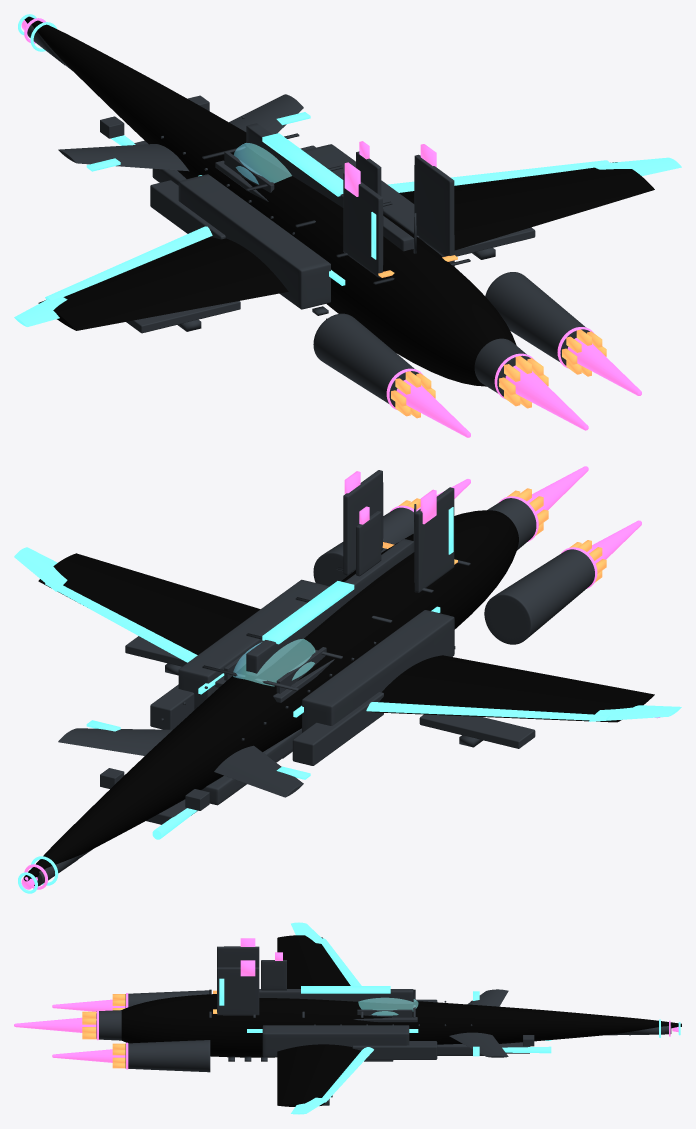
File: interceptor-v2.glb
3 views of the same model, one above another, from view 1: azimuth 30°, elevation 25°; view 2: azimuth 150°, elevation 25°; view 3: azimuth 270°, elevation 25° (orthographic). The views are drawn at different scales.
Visible parts, largest first — view 1: Fuselage, Wing_-1, Wing_1, Cheek_-1, 1_Cowling, 0_Cowling, Stab_1, Stab_-1, Canard_-1, Spine, Cheek_1, WingLE_-1 (+15 smaller); view 2: Fuselage, Wing_-1, Wing_1, Cheek_-1, 1_Cowling, Cheek_1, Stab_-1, Spine, CheekLow_-1, Canard_-1, Rail_-1, Stab_1 (+16 smaller); view 3: Fuselage, Wing_1, Cheek_1, Wing_-1, 0_Cowling, Stab_1, Spine, CheekLow_1, Stab_-1, Canard_1, SensorFin, Canopy (+12 smaller).
Boxes of the visible parts, x1,y1,x2,y2 form: Fuselage: [24, 16, 516, 386]; Wing_-1: [38, 237, 288, 330]; Wing_1: [399, 162, 654, 250]; Cheek_-1: [178, 174, 330, 309]; 1_Cowling: [313, 313, 418, 406]; 0_Cowling: [485, 272, 589, 365]; Stab_1: [414, 154, 454, 256]; Stab_-1: [343, 173, 383, 277]; Canard_-1: [58, 144, 189, 171]; Spine: [246, 123, 413, 251]; Cheek_1: [304, 144, 454, 266]; WingLE_-1: [45, 226, 212, 300]; Fuselage: [23, 510, 518, 881]; Wing_-1: [371, 655, 654, 722]; Wing_1: [38, 553, 260, 654]; Cheek_-1: [302, 610, 454, 732]; 1_Cowling: [484, 549, 594, 644]; Cheek_1: [178, 579, 329, 709]; Stab_-1: [414, 487, 454, 592]; Spine: [246, 539, 414, 676]; CheekLow_-1: [292, 692, 383, 765]; Canard_-1: [214, 745, 303, 797]; Rail_-1: [419, 714, 535, 748]; Stab_1: [343, 470, 383, 575]; Fuselage: [121, 994, 681, 1057]; Wing_1: [277, 1044, 360, 1106]; Cheek_1: [262, 1025, 409, 1056]; Wing_-1: [277, 935, 350, 988]; 0_Cowling: [125, 1040, 210, 1072]; Stab_1: [217, 967, 259, 1015]; Spine: [259, 989, 413, 1003]; CheekLow_1: [352, 1041, 437, 1059]; Stab_-1: [217, 946, 259, 967]; Canard_1: [449, 1032, 508, 1057]; SensorFin: [261, 960, 286, 990]; Canopy: [358, 997, 418, 1015].
Size of the model in its own units: 2.76 by 0.73 by 4.09.
Materials: 7 (1 with a texture image).
